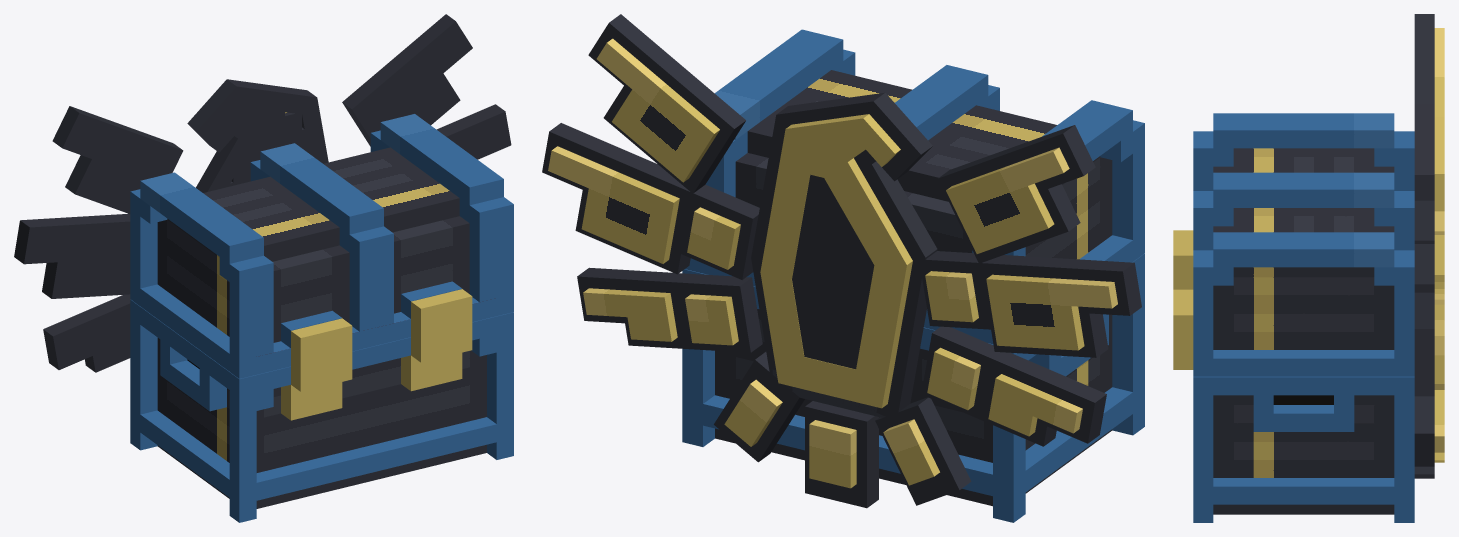
File: prop_chest.glb
3 views of the same model, side by side, from view 1: azimuth 30°, elevation 25°; view 2: azimuth 150°, elevation 25°; view 3: azimuth 270°, elevation 25° (orthographic). The views are drawn at different scales.
Visible parts, largest first — view 1: Top-Local, Bottom-Local, r1r_bg2$$(1)-Local, r1r_bg3-Local, r1r_bg3$$(1)-Local, r1r_bg$$(1)-Local, hood_0bg-Local, r1r_bg2-Local, hood_8$$(2)-Local, hood_6$$(2)-Local, hood_4$$(2)-Local, hood_9$$(2)-Local (+1 smaller); view 2: Top-Local, Bottom-Local, hood_0-Local, r2r-Local, r2r$$(2)-Local, r1r_bg2-Local, r1r_bg2$$(1)-Local, r2r$$(1)-Local, r1r_bg$$(1)-Local, r2r$$(3)-Local, r1r_bg-Local, r1r_bg3-Local (+34 smaller); view 3: Top-Local, Bottom-Local, r1r_bg2-Local, r1r_bg3-Local, r1r_bg3$$(1)-Local, hood_4$$(2)-Local, r1r_bg-Local, r2r-Local, r2r$$(3)-Local, r2r$$(1)-Local, r1r-Local, hood_4-Local (+2 smaller).
Part boxes in pixels (box(x1,y1,x2,y2)): Top-Local: box(130, 114, 513, 378); Bottom-Local: box(130, 289, 513, 522); r1r_bg2$$(1)-Local: box(14, 213, 130, 298); r1r_bg3-Local: box(342, 14, 472, 146); r1r_bg3$$(1)-Local: box(52, 106, 183, 213); r1r_bg$$(1)-Local: box(43, 294, 130, 372); hood_0bg-Local: box(228, 89, 319, 186); r1r_bg2-Local: box(436, 104, 511, 159); hood_8$$(2)-Local: box(187, 79, 258, 152); hood_6$$(2)-Local: box(196, 114, 266, 192); hood_4$$(2)-Local: box(227, 79, 317, 115); hood_9$$(2)-Local: box(221, 111, 257, 144); Top-Local: box(685, 29, 1144, 343); Bottom-Local: box(682, 253, 1144, 522); hood_0-Local: box(792, 174, 874, 369); r2r-Local: box(548, 146, 740, 269); r2r$$(2)-Local: box(925, 271, 1117, 350); r1r_bg2-Local: box(542, 123, 759, 279); r1r_bg2$$(1)-Local: box(922, 251, 1141, 357); r2r$$(1)-Local: box(596, 38, 719, 182); r1r_bg$$(1)-Local: box(921, 326, 1106, 446); r2r$$(3)-Local: box(946, 147, 1069, 253); r1r_bg-Local: box(577, 267, 762, 352); r1r_bg3-Local: box(588, 14, 745, 193); Top-Local: box(1193, 113, 1414, 376); Bottom-Local: box(1173, 230, 1414, 522); r1r_bg2-Local: box(1414, 292, 1434, 396); r1r_bg3-Local: box(1414, 200, 1434, 292); r1r_bg3$$(1)-Local: box(1414, 14, 1434, 103); hood_4$$(2)-Local: box(1414, 103, 1434, 174); r1r_bg-Local: box(1414, 396, 1434, 466); r2r-Local: box(1434, 289, 1444, 383); r2r$$(3)-Local: box(1434, 28, 1444, 116); r2r$$(1)-Local: box(1434, 211, 1444, 281); r1r-Local: box(1434, 384, 1444, 452); hood_4-Local: box(1434, 117, 1444, 173).
Bounding box in the file's own units: 28.42 × 19.51 × 13.5.
Materials: 34 (34 with a texture image).
